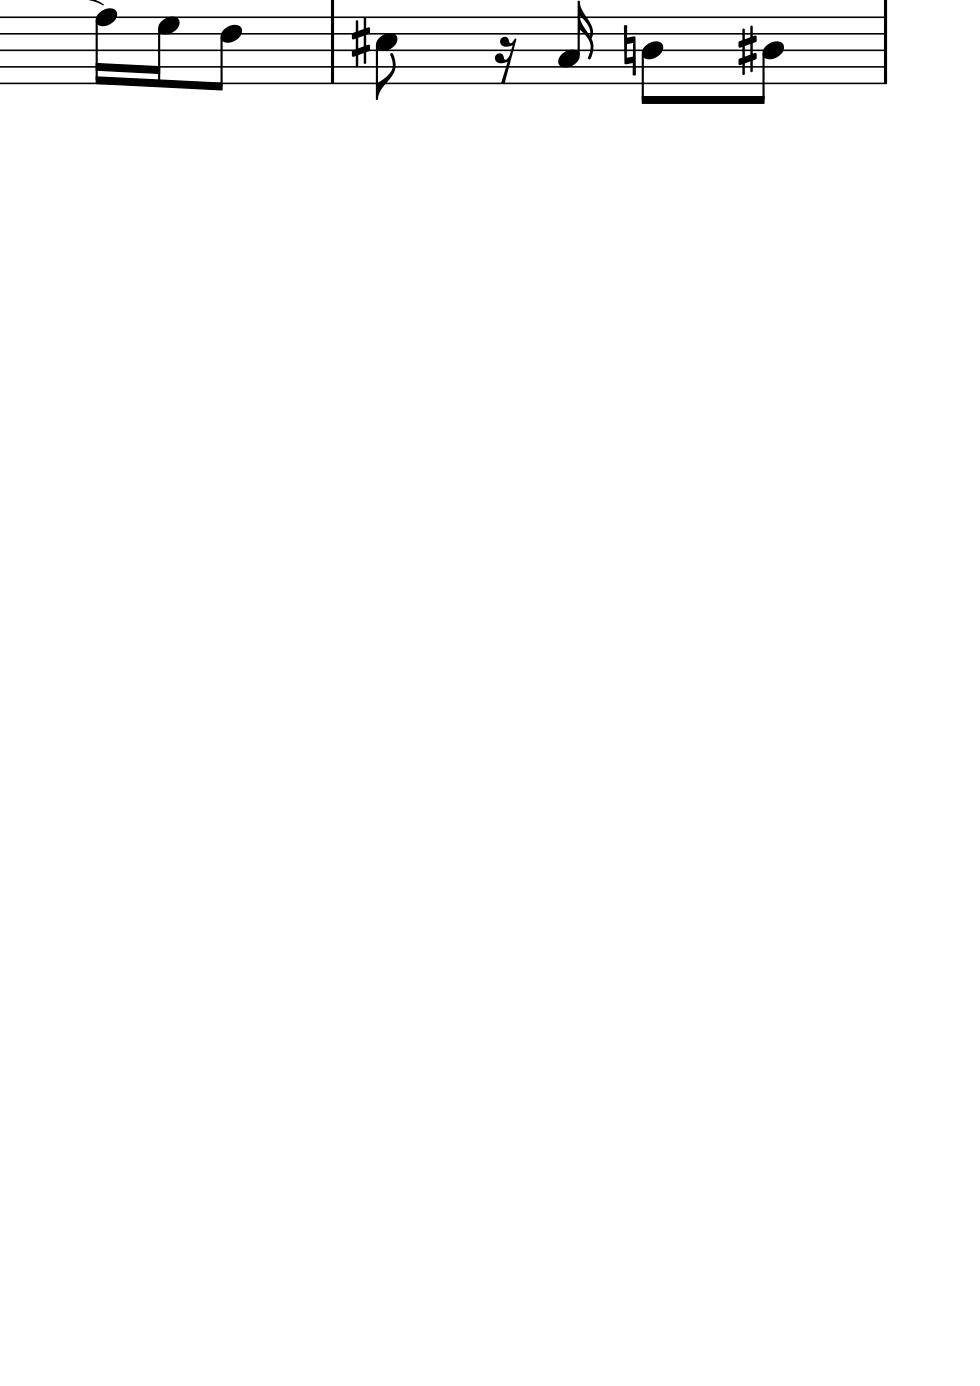16_3: (558, 1, 594, 85)
16_7: (150, 16, 182, 90)
16_8: (94, 7, 118, 86)
8_4: (754, 15, 785, 105), (641, 16, 664, 105)
8_5: (375, 15, 398, 101)
8_6: (213, 16, 242, 91)
Natural: (623, 23, 638, 77)
Rests16: (495, 35, 517, 84)
Sharp: (737, 25, 759, 75), (350, 17, 371, 68)
Single_barline: (323, 16, 340, 83), (876, 17, 893, 83)
